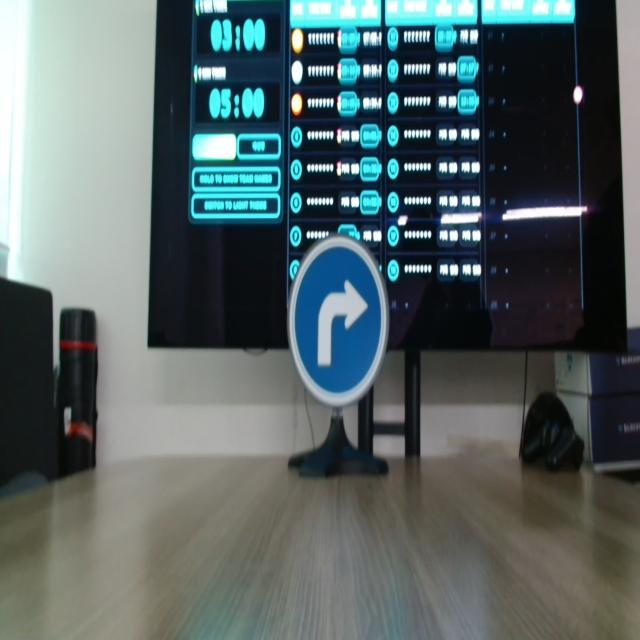right_dierection: (287, 224, 390, 412)
